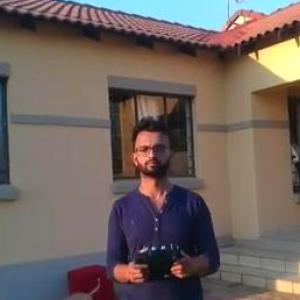follow: (99, 114, 225, 299)
null: (35, 272, 109, 299)
